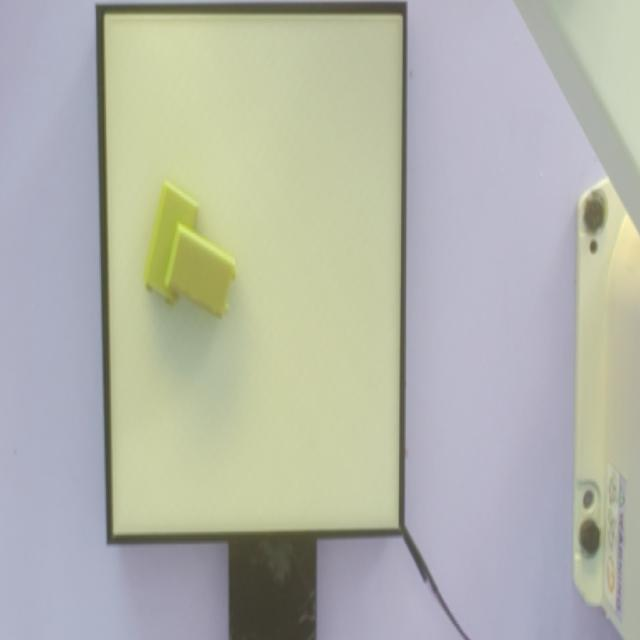bateria: (164, 224, 237, 323)
mesa: (96, 2, 407, 548)
